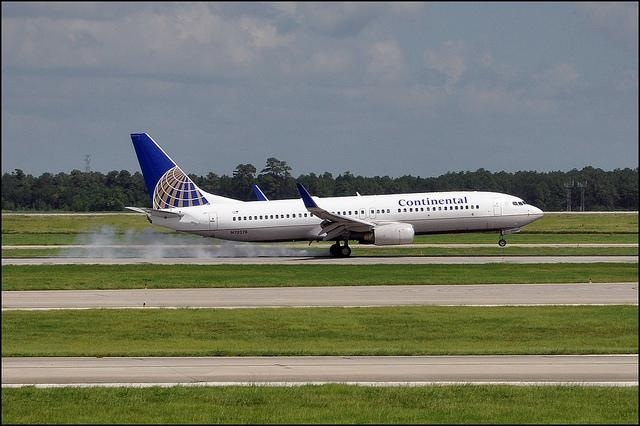airplane: (123, 131, 543, 260)
